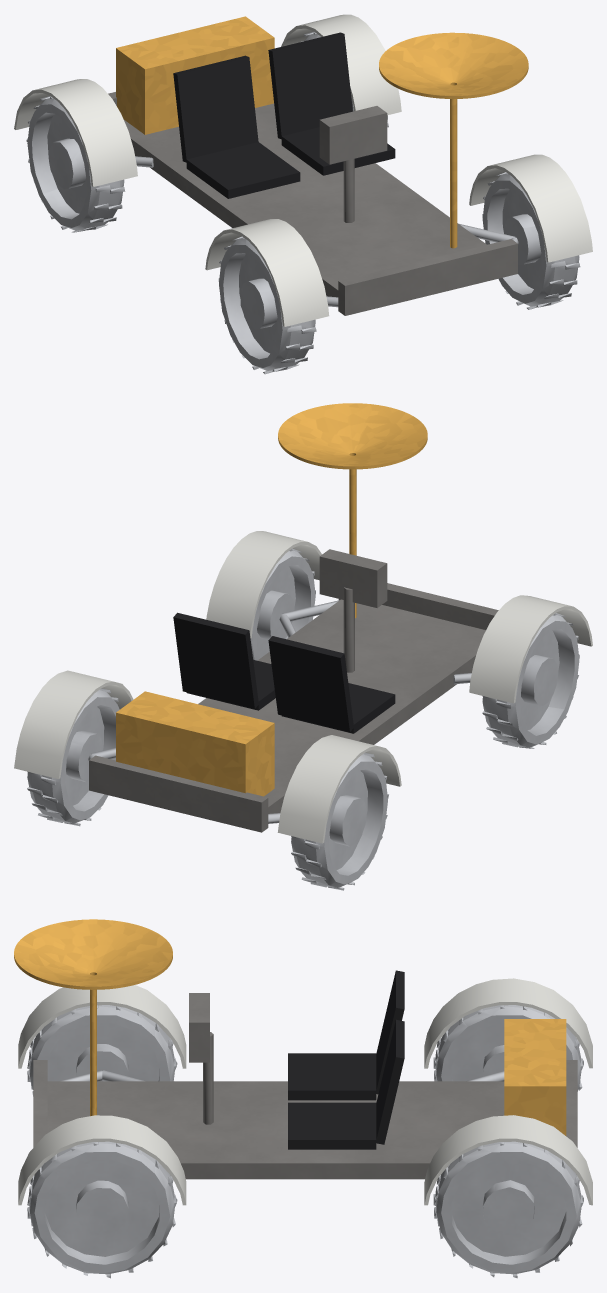
Rendered from rover02_lrv.glb.
3 renders of one model, top to bottom at view 1: azimuth 30°, elevation 25°; view 2: azimuth 150°, elevation 25°; view 3: azimuth 270°, elevation 25°, orthographic. The views are drawn at different scales.
Parts seen in each view (by area): view 1: chassis, fenders, seats, tool_pallet, hga_umbrella, wheel_4, wheel_3, wheel_1, console, suspension_arms; view 2: chassis, fenders, seats, tool_pallet, hga_umbrella, wheel_4, wheel_3, wheel_2, console, wheel_1, suspension_arms; view 3: chassis, fenders, wheel_2, wheel_1, seats, hga_umbrella, wheel_3, tool_pallet, wheel_4, console, suspension_arms.
Boxes of the visible parts, x1=… form: chassis: x1=108, y1=92, x2=517, y2=315; fenders: x1=14, y1=14, x2=592, y2=326; seats: x1=173, y1=32, x2=395, y2=198; tool_pallet: x1=116, y1=16, x2=274, y2=134; hga_umbrella: x1=379, y1=32, x2=528, y2=248; wheel_4: x1=26, y1=96, x2=125, y2=232; wheel_3: x1=218, y1=236, x2=316, y2=374; wheel_1: x1=482, y1=172, x2=580, y2=309; console: x1=319, y1=106, x2=387, y2=222; suspension_arms: x1=135, y1=156, x2=518, y2=307; chassis: x1=89, y1=583, x2=498, y2=832; fenders: x1=14, y1=531, x2=592, y2=843; seats: x1=173, y1=612, x2=395, y2=733; tool_pallet: x1=116, y1=691, x2=274, y2=796; hga_umbrella: x1=278, y1=403, x2=427, y2=618; wheel_4: x1=291, y1=752, x2=388, y2=890; wheel_3: x1=482, y1=613, x2=579, y2=748; wheel_2: x1=27, y1=688, x2=119, y2=826; console: x1=319, y1=549, x2=387, y2=672; wheel_1: x1=250, y1=548, x2=315, y2=660; suspension_arms: x1=88, y1=600, x2=471, y2=823; chassis: x1=33, y1=1060, x2=577, y2=1179; fenders: x1=18, y1=978, x2=592, y2=1205; wheel_2: x1=433, y1=1141, x2=583, y2=1278; wheel_1: x1=27, y1=1141, x2=177, y2=1278; seats: x1=288, y1=970, x2=404, y2=1149; hga_umbrella: x1=14, y1=919, x2=172, y2=1116; wheel_3: x1=27, y1=1005, x2=177, y2=1096; tool_pallet: x1=504, y1=1019, x2=566, y2=1135; wheel_4: x1=433, y1=1005, x2=583, y2=1091; console: x1=189, y1=993, x2=213, y2=1124; suspension_arms: x1=59, y1=1070, x2=504, y2=1081.
Size of the model in its own units: 2.14 by 1.72 by 3.28.
Materials: 5 (3 with a texture image).
